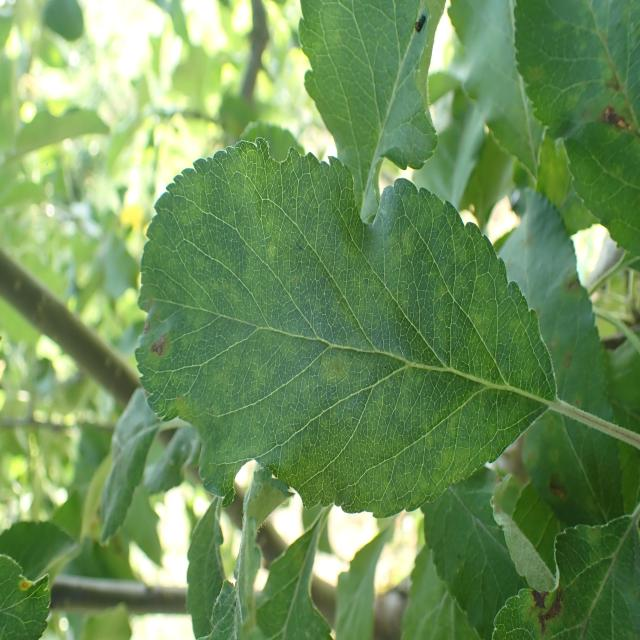scab: (110, 168, 533, 491), (558, 0, 640, 248)
